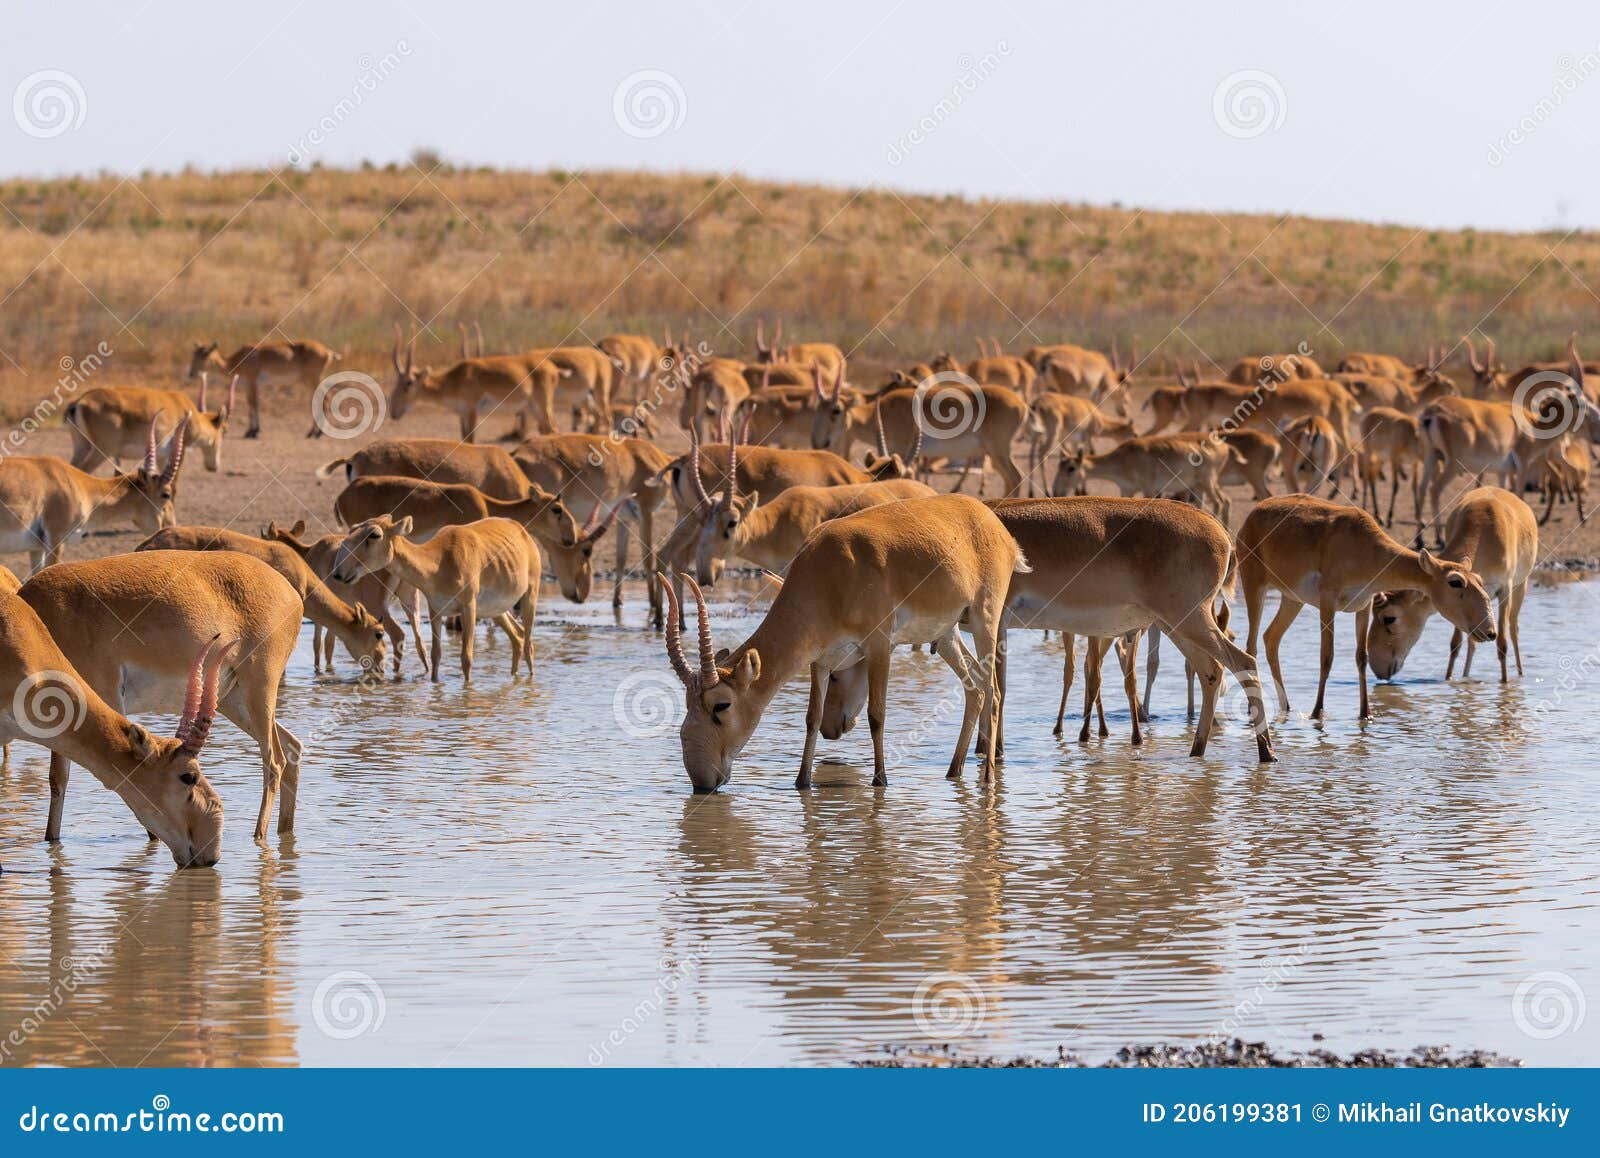saiga: (637, 490, 1020, 790)
